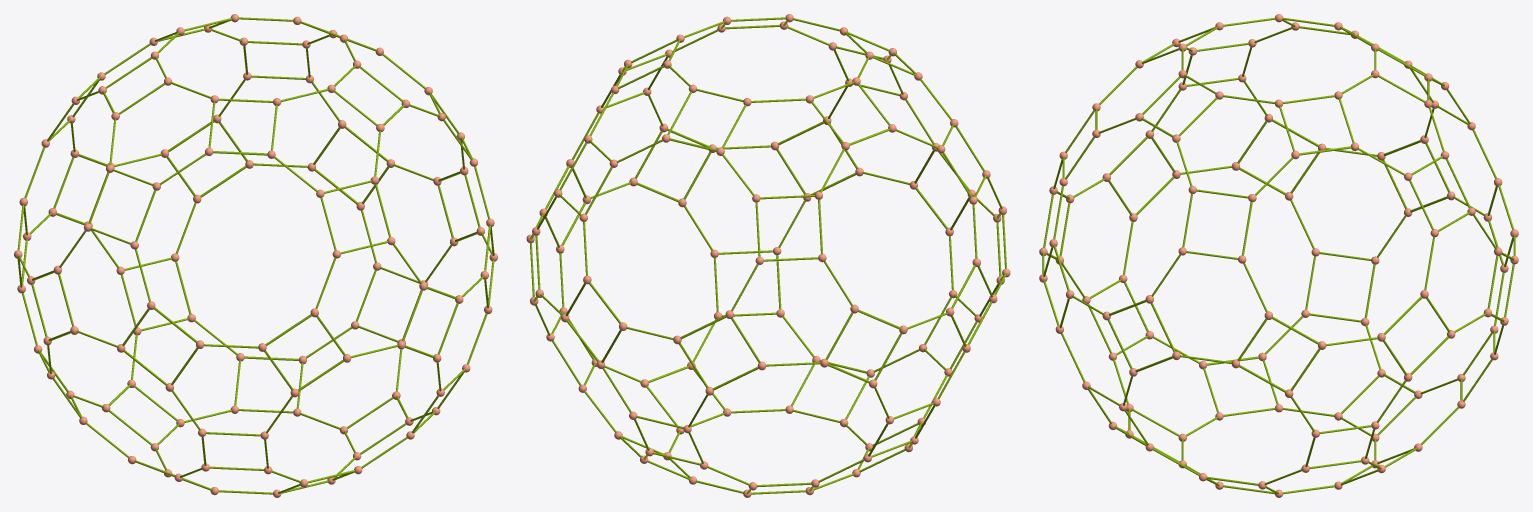
Rendered from truncated_icosidodecahedron.glb.
The picture shows the model from 3 angles, left to right: view 1: azimuth 30°, elevation 25°; view 2: azimuth 150°, elevation 25°; view 3: azimuth 270°, elevation 25°; orthographic projection.
Bounding box in the file's own units: 7.99 × 7.37 × 8.05.
